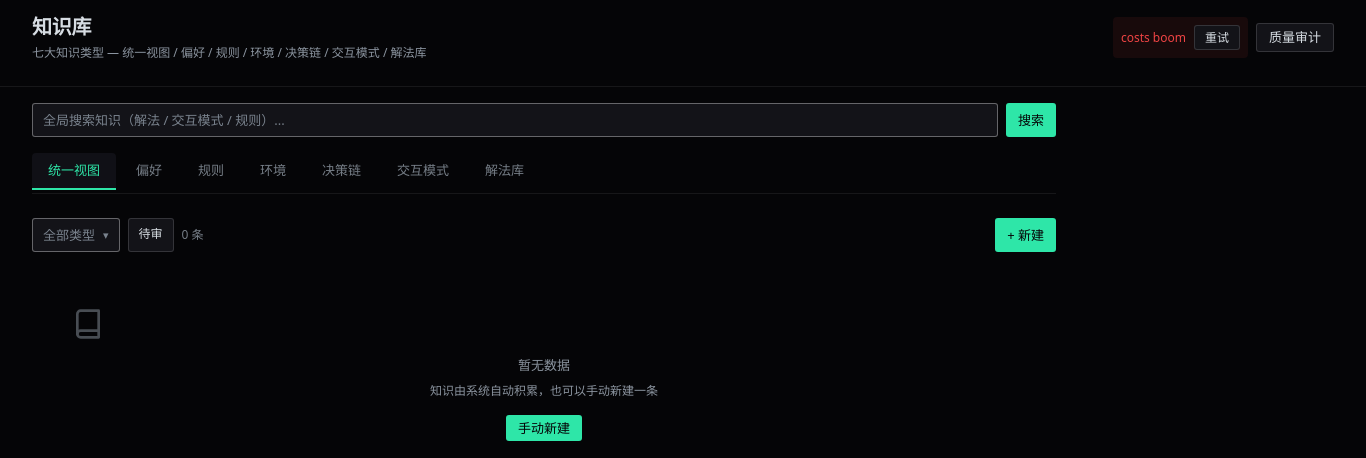
Test case: 成本子拉取失败错误行（2026-09 web-ux-optional-fixes Step 1，原 .catch(() => null) 静默） › getCosts 失败：页头按钮旁错误行 + 重试，点击后重拉恢复 costNote
Expected: the text "costs boom" is shown, top-left (1121, 29), bottom-right (1186, 46)
Click the button "重试" at (1217, 37), box top-left (1194, 25), bottom-right (1240, 50)
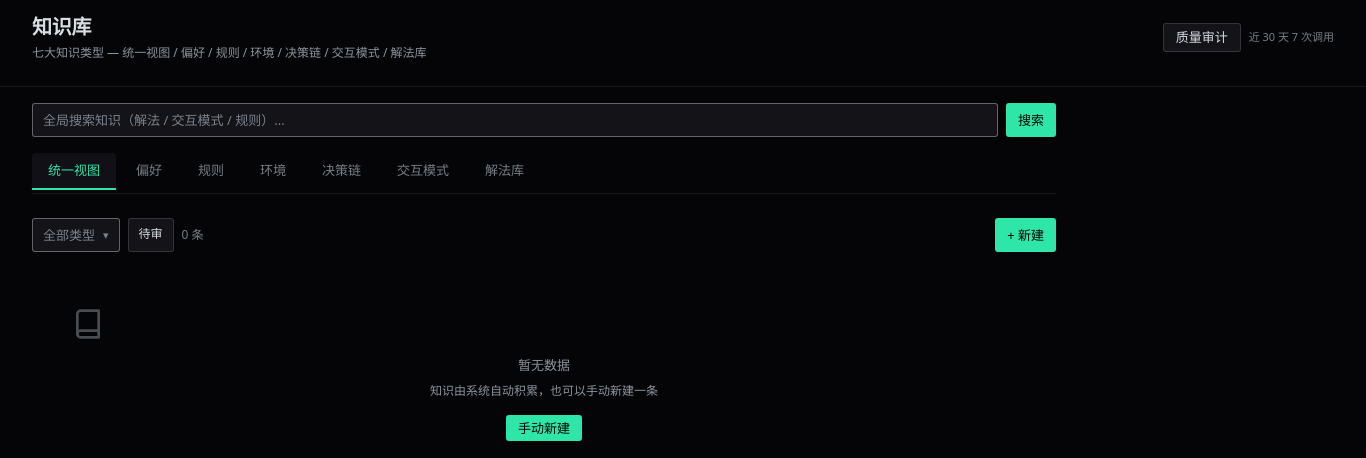
Result: the text "近 30 天 7 次调用" is shown at top-left (1249, 30), bottom-right (1334, 45)
Result: the text "costs boom" is gone
